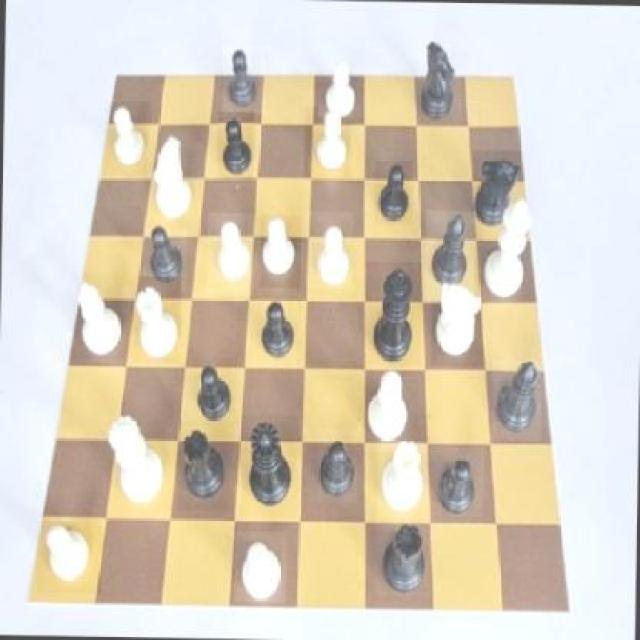bishop: (424, 211, 474, 301), (491, 358, 541, 439)
black-bishop: (364, 262, 422, 366)
black-king: (470, 151, 524, 241), (417, 32, 463, 126)
black-knight: (428, 446, 484, 527), (143, 216, 188, 292), (252, 298, 297, 372), (192, 356, 237, 428), (316, 429, 356, 505), (223, 44, 266, 114), (374, 160, 413, 225), (217, 112, 254, 180)
black-pawn: (240, 416, 299, 516)
black-queen: (177, 422, 234, 512), (376, 517, 432, 596)
black-rook: (72, 272, 130, 360), (360, 361, 414, 454)
white-bishop: (482, 185, 538, 300)
white-king: (431, 274, 484, 368), (147, 128, 196, 228)
white-knight: (37, 520, 103, 594), (208, 212, 255, 296), (234, 531, 286, 603), (306, 211, 354, 288), (105, 100, 152, 177), (304, 106, 352, 179), (258, 214, 301, 288), (319, 58, 363, 118)
white-pawn: (106, 414, 170, 514)
white-queen: (131, 276, 181, 362), (377, 438, 428, 518)
